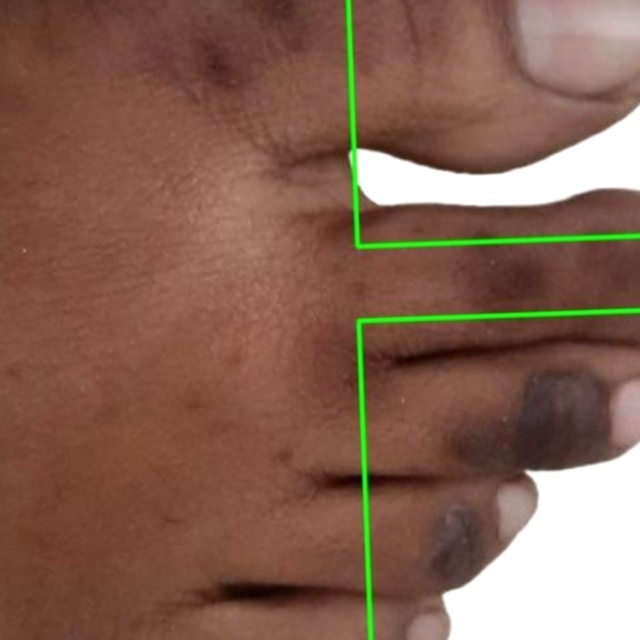Tinea Corporis: (359, 310, 639, 639), (347, 0, 639, 245)
